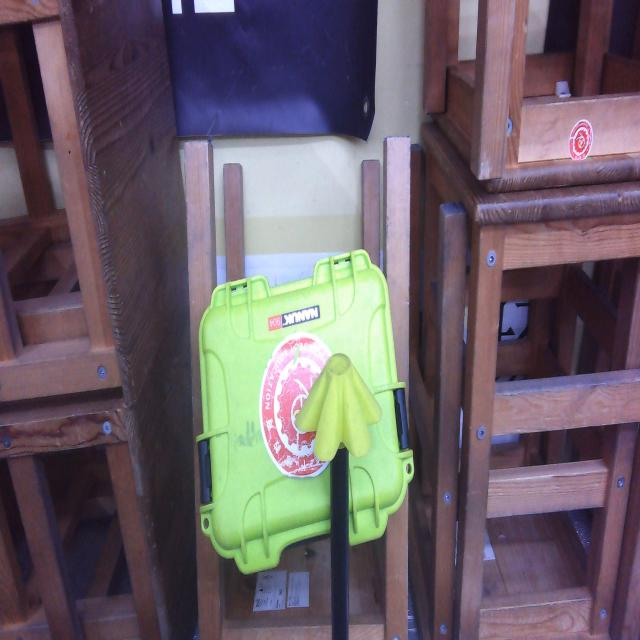Yellow-Stake-Head: (295, 353, 383, 461)
